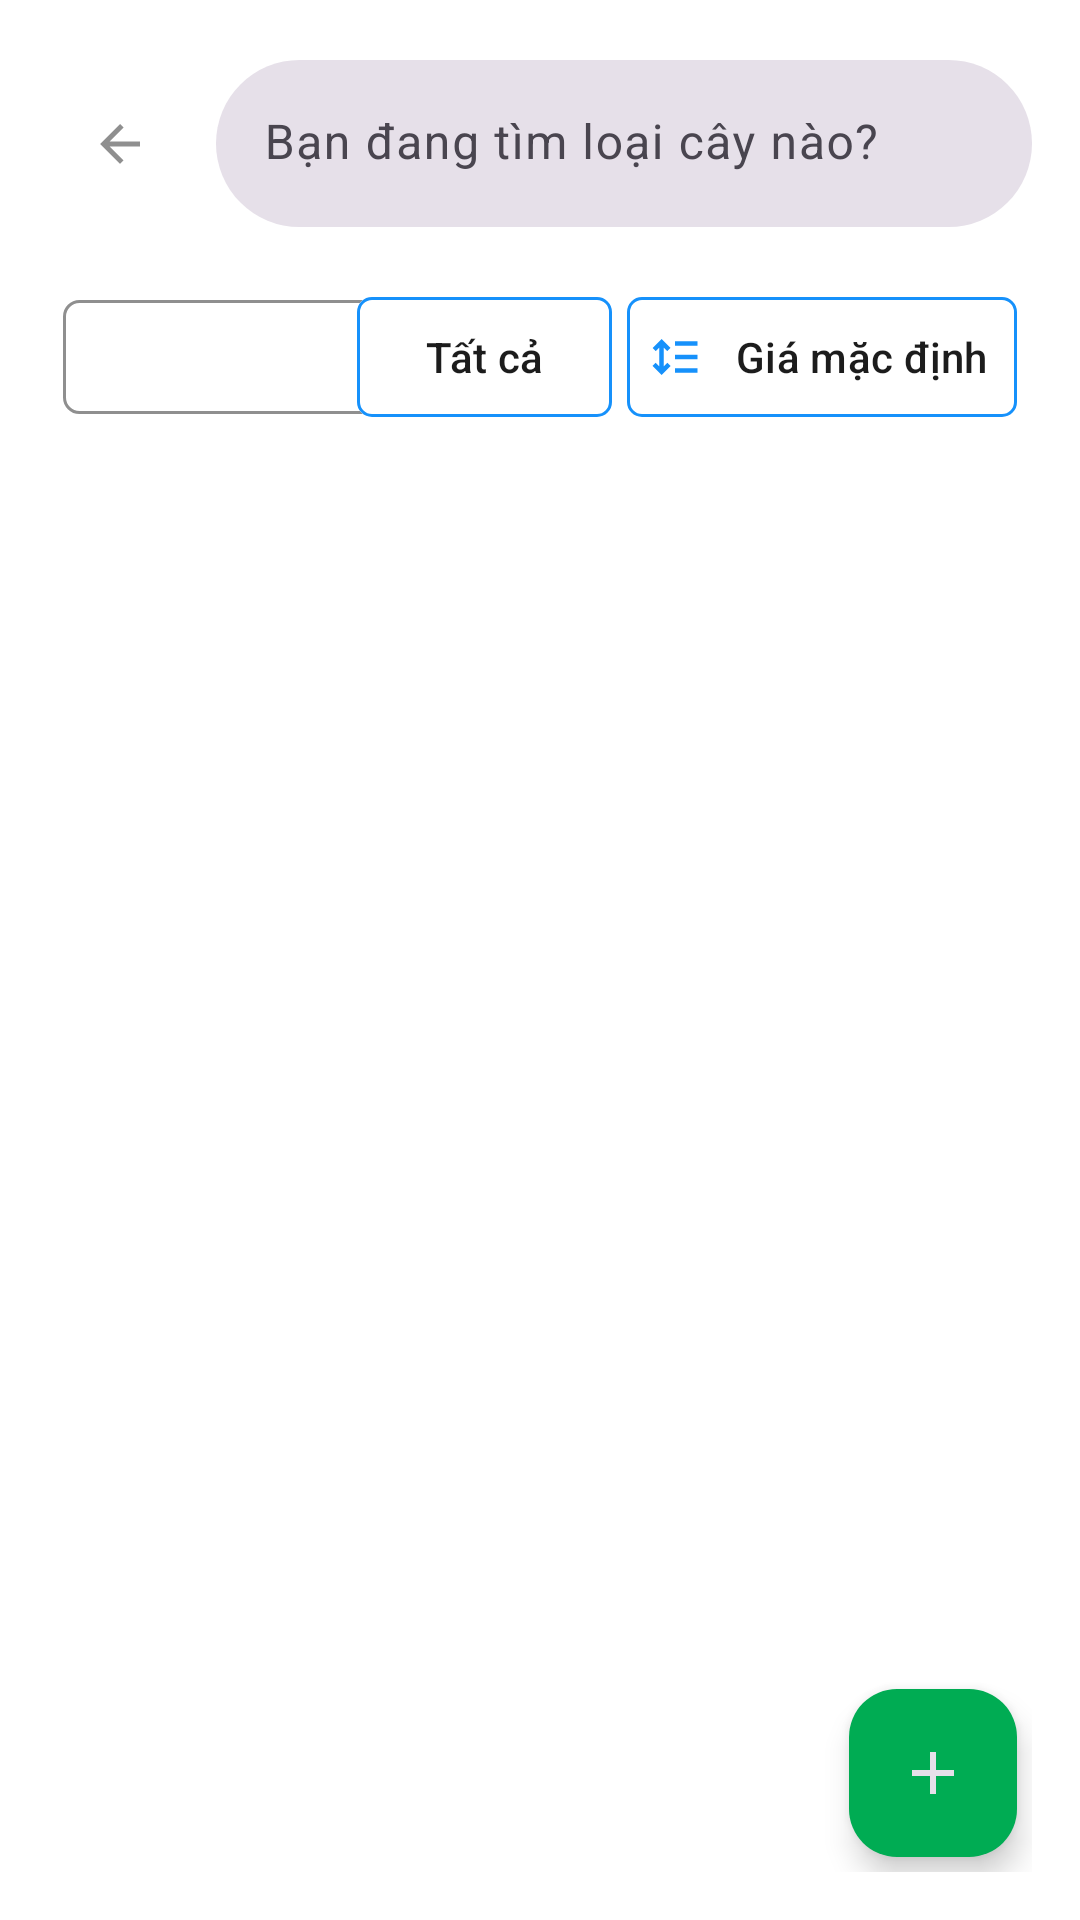

Icons on this 1080x1920 Android screen, each with its box as (x1, y1, x2, y2):
Add New Product: (849, 1689, 1017, 1857)
back arrow: (100, 124, 140, 164)
